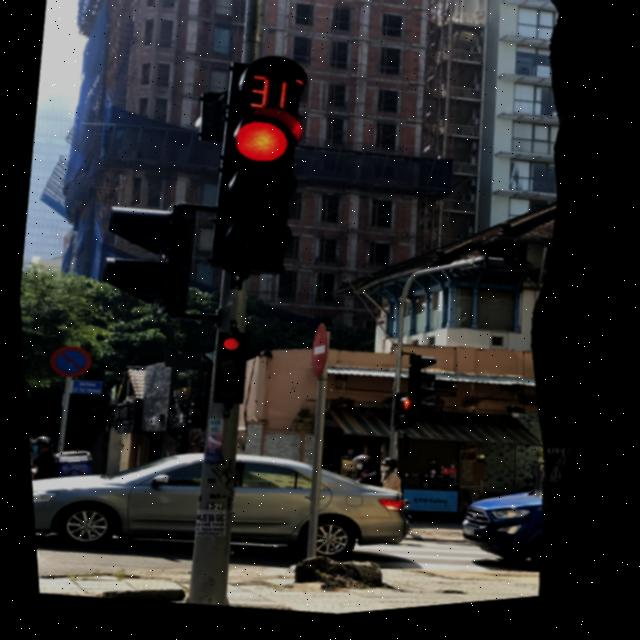Red: (199, 107, 312, 285), (199, 330, 249, 411)
